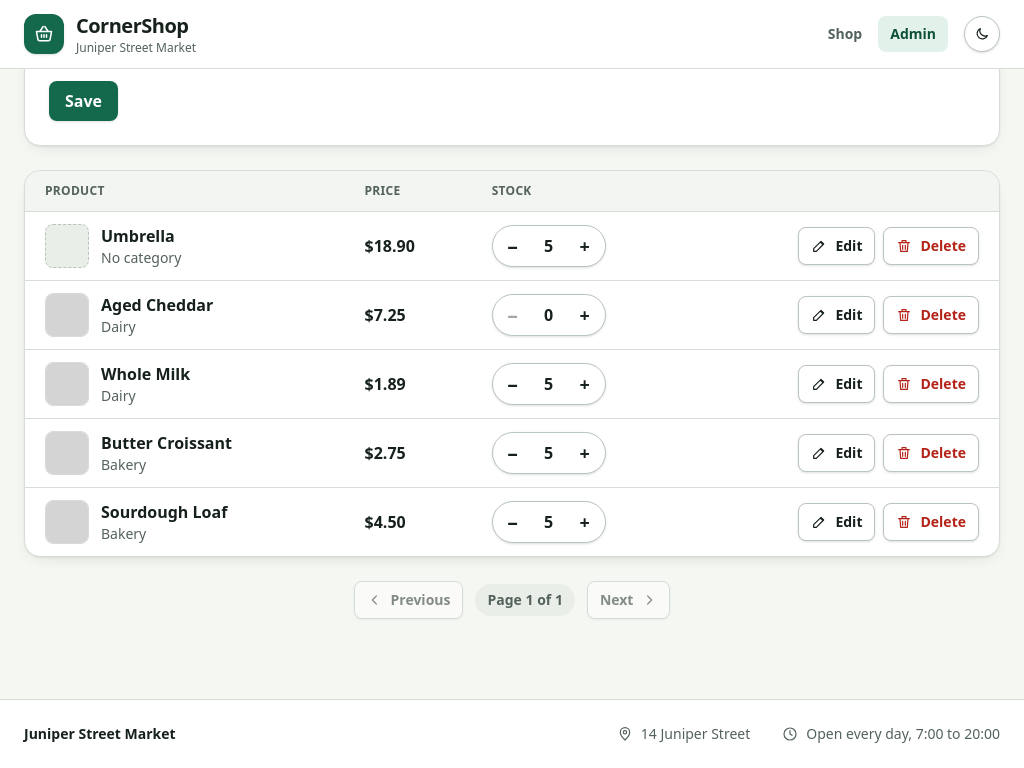
it: the owner panel › leaves the edit with Cancel
(page scrolled)
Click the button with aria-label "Edit Whole Milk" at (837, 384), box [798, 365, 876, 403]
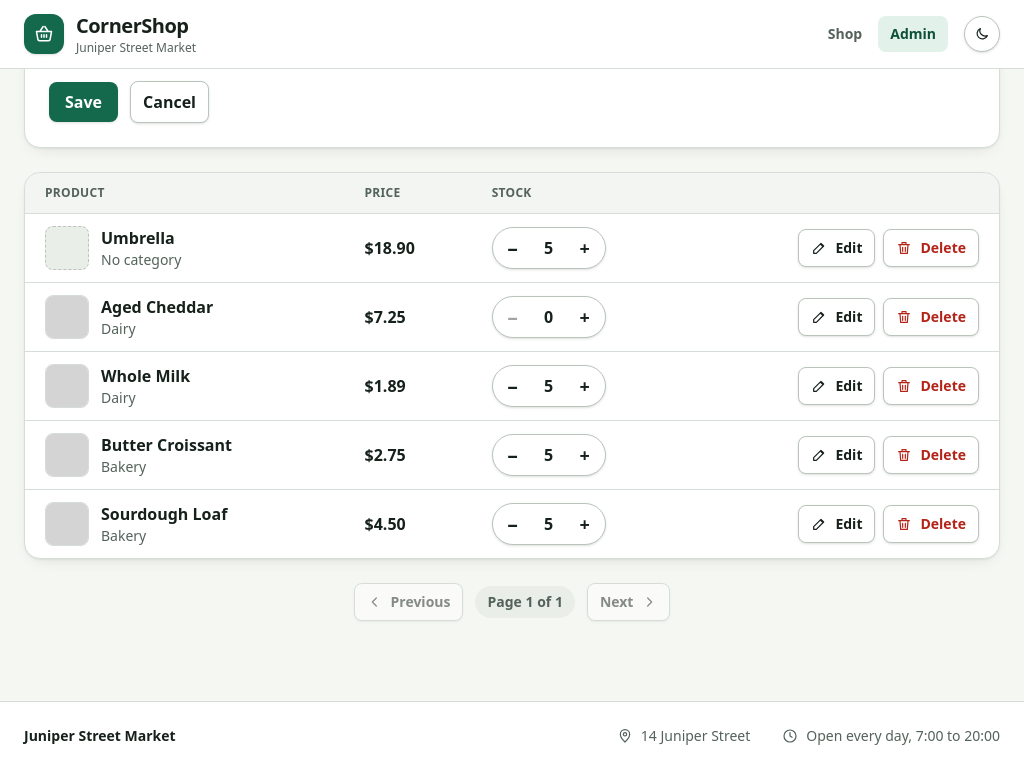
Click the button "Cancel" at (169, 102), box [130, 81, 209, 123]
(page scrolled)
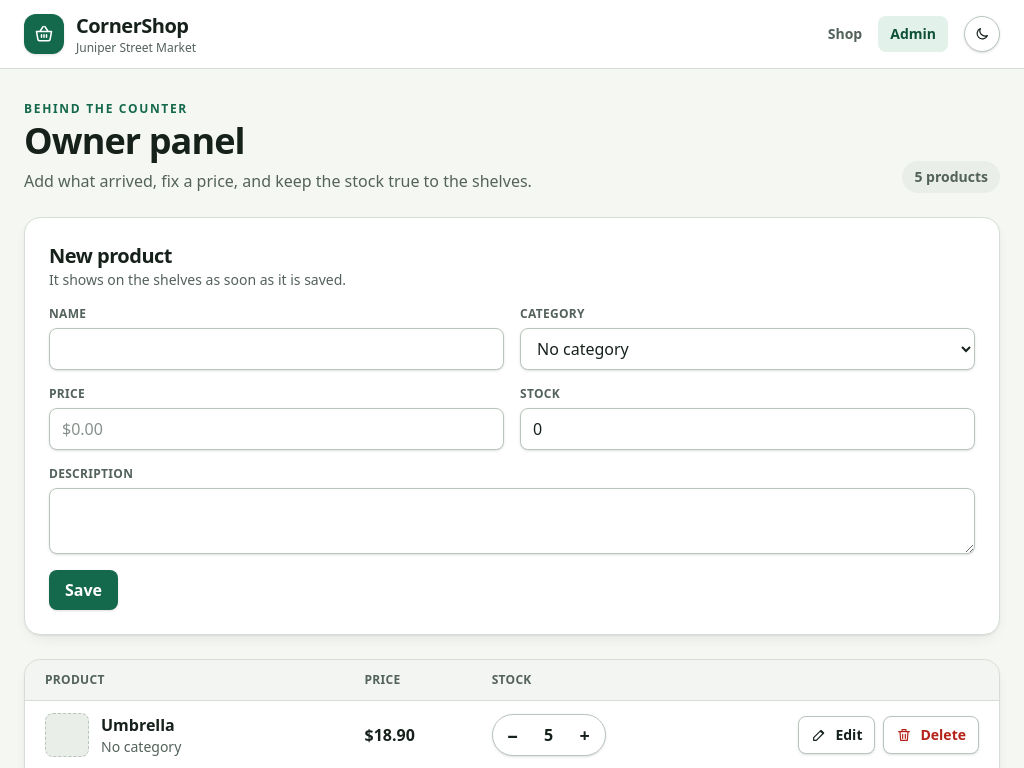
Expected: the field labelled "Name" is empty, [49, 328, 504, 370]
Expected: the button "Cancel" is gone
